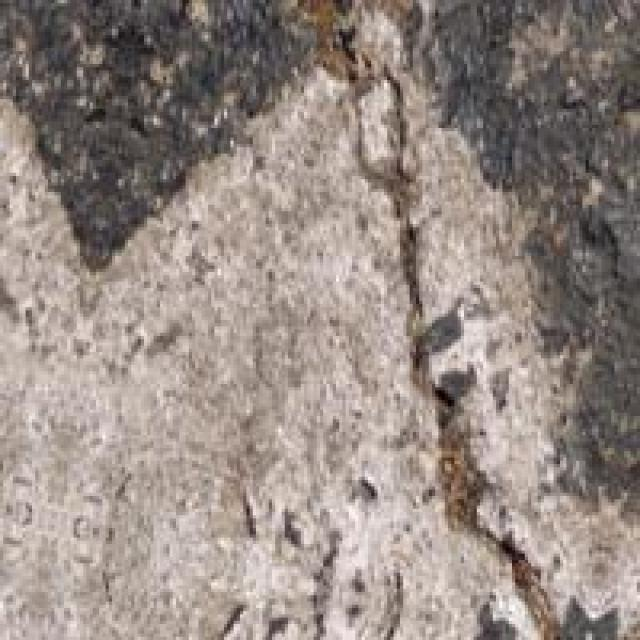crack: (202, 41, 556, 614)
